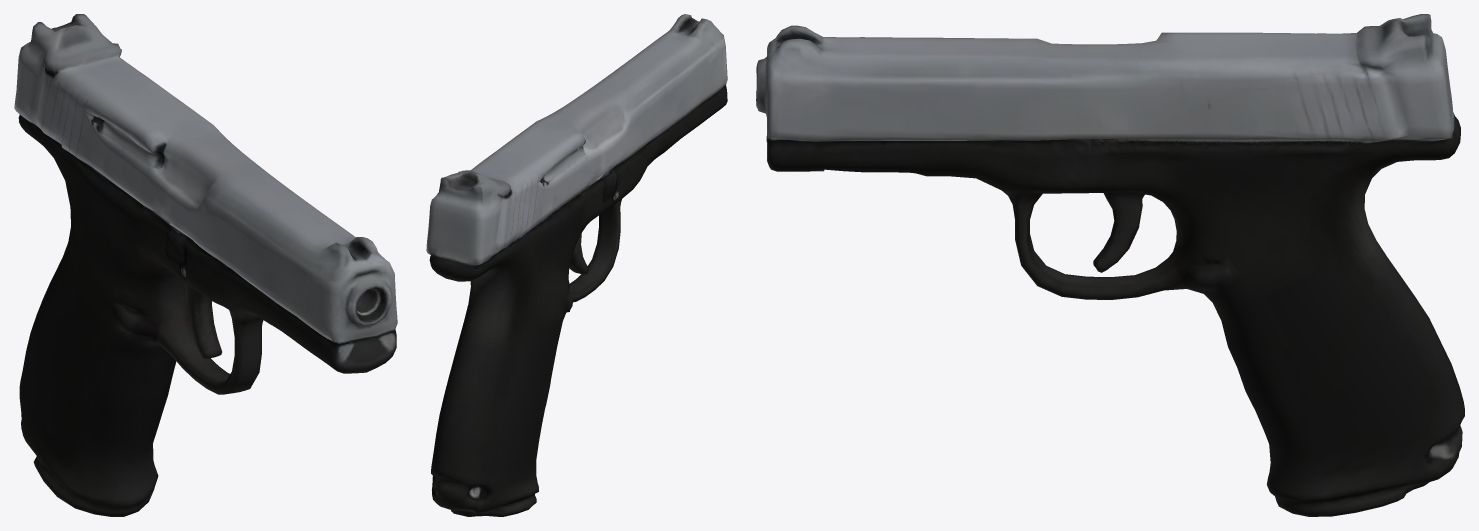
File: w_pistol.glb
3 renders of one model, left to right at view 1: azimuth 30°, elevation 25°; view 2: azimuth 150°, elevation 25°; view 3: azimuth 270°, elevation 25°, orthographic. The views are drawn at different scales.
Parts seen in each view (by area): view 1: model; view 2: model; view 3: model.
Part boxes in pixels (x1,y1,x2,y2): model: (14, 14, 397, 516); model: (426, 14, 727, 516); model: (756, 14, 1464, 516).
Bounding box in the file's own units: 0.3055 × 1.42 × 1.89.
1 material, 1 textured.
